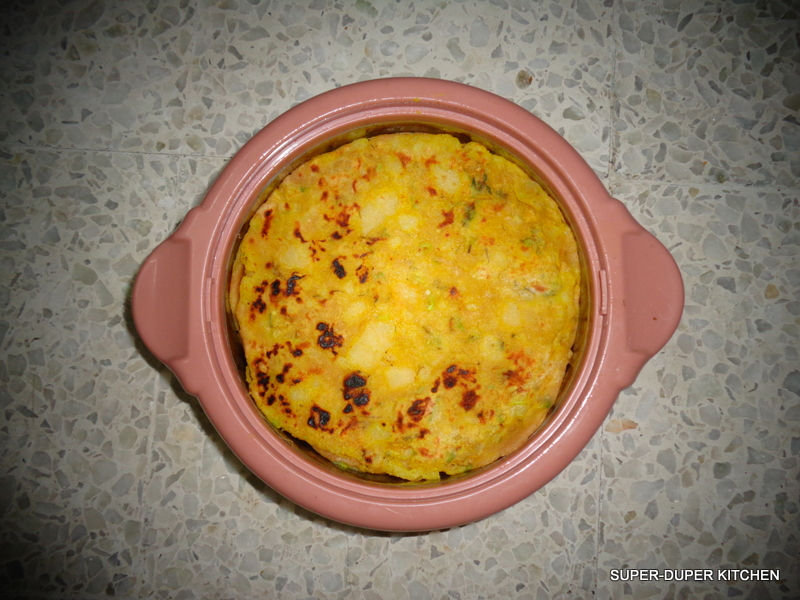aloo_paratha: (233, 133, 587, 482)
